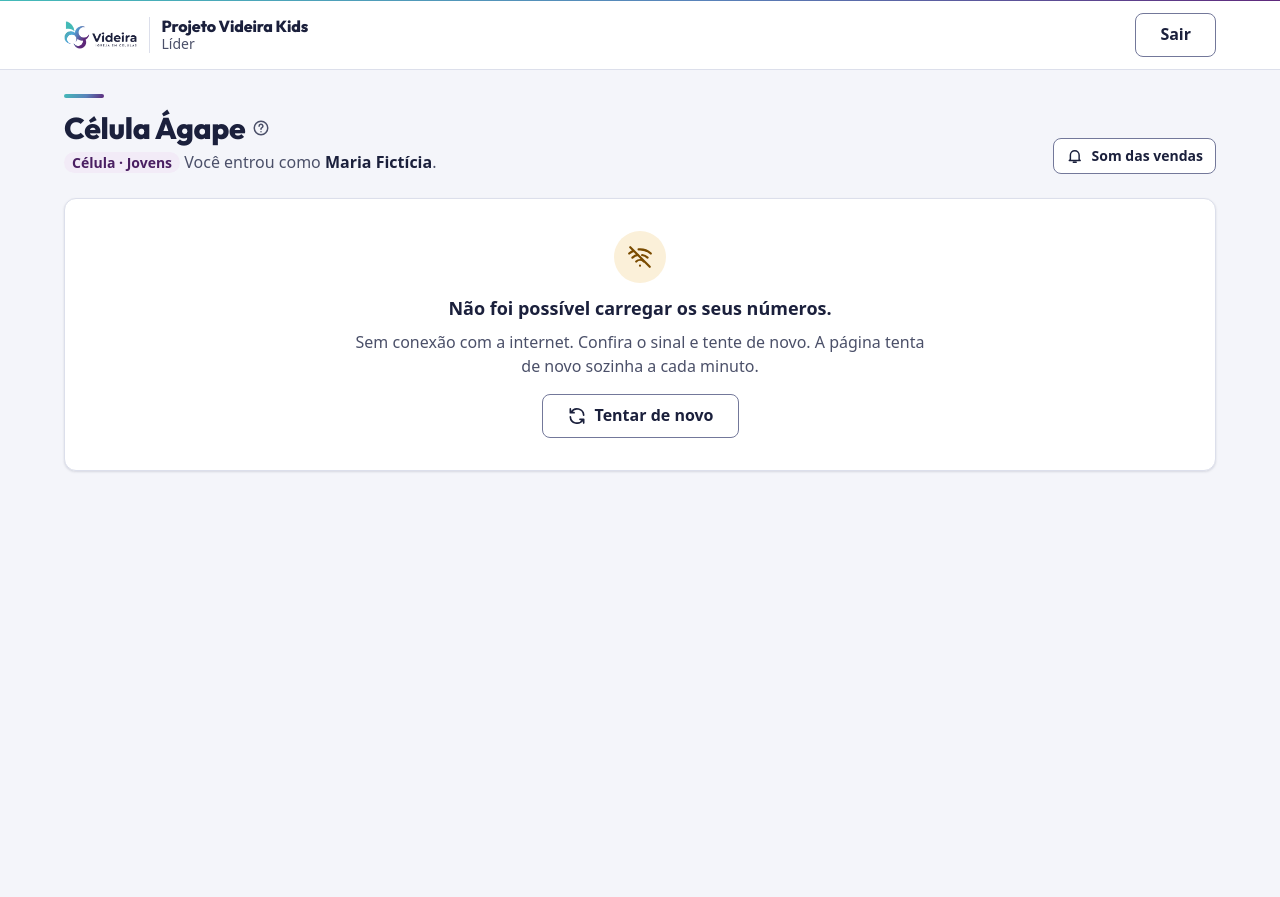
Test case: estados e atualização › falha na primeira carga: o erro com 'Tentar de novo', que carrega
Check: the message shows "Não foi possível carregar os seus números.", box left=448, top=296, right=832, bottom=320
Check: the message shows "A página tenta de novo sozinha a cada minuto.", box left=356, top=331, right=924, bottom=377
Click the button "Tentar de novo".
click(640, 416)  # box left=542, top=394, right=738, bottom=438
(page scrolled)
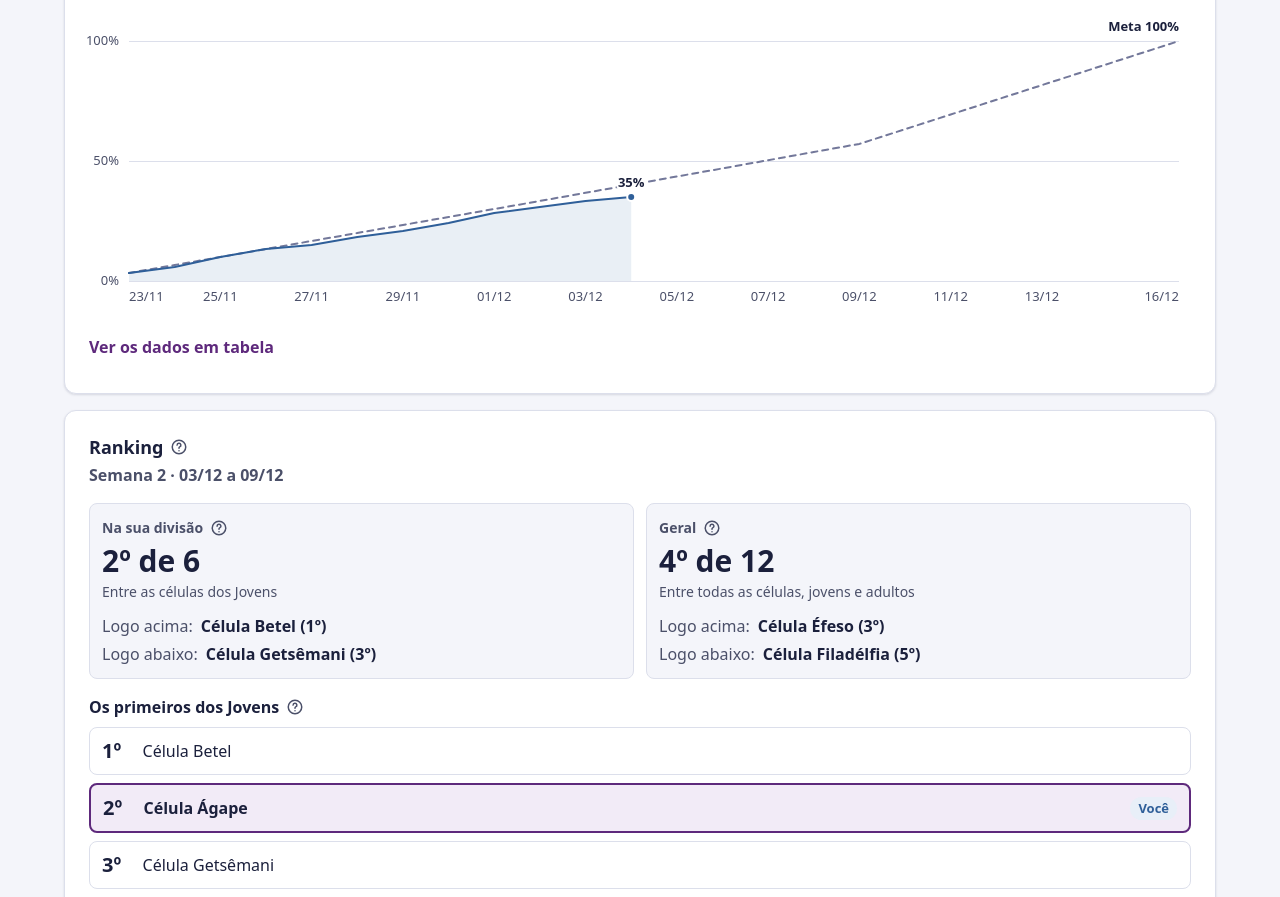
Check: the heading "Ranking" is shown, box left=89, top=437, right=164, bottom=458
